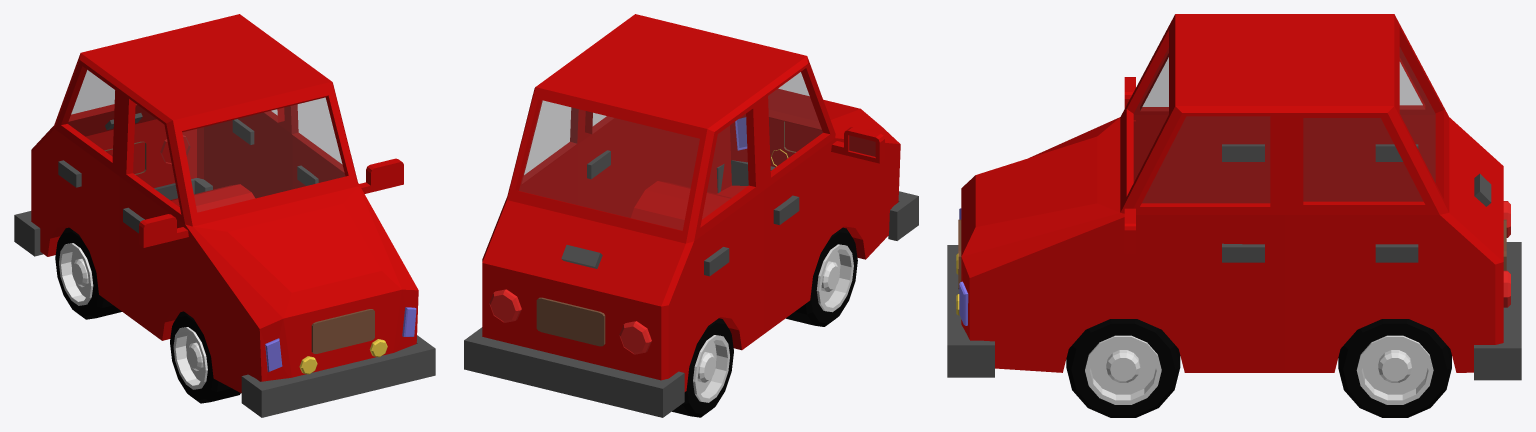
Rendered from prop_car_red.glb.
3 renders of one model, left to right at view 1: azimuth 30°, elevation 25°; view 2: azimuth 150°, elevation 25°; view 3: azimuth 270°, elevation 25°, orthographic. The views are drawn at different scales.
Parts seen in each view (by area): view 1: red car; view 2: red car; view 3: red car.
Boxes of the visible parts, x1=… form: red car: x1=14, y1=14, x2=435, y2=417; red car: x1=464, y1=14, x2=918, y2=417; red car: x1=947, y1=14, x2=1521, y2=417.
Size of the model in its own units: 3.32 by 3.21 by 5.34.
